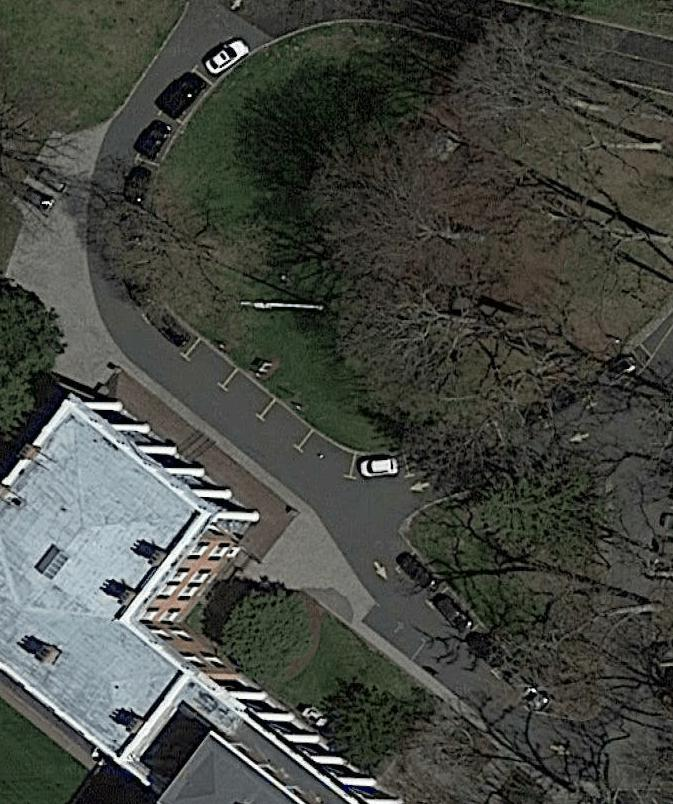parkingspot: (126, 281, 414, 481), (391, 545, 557, 717), (119, 34, 254, 207)
